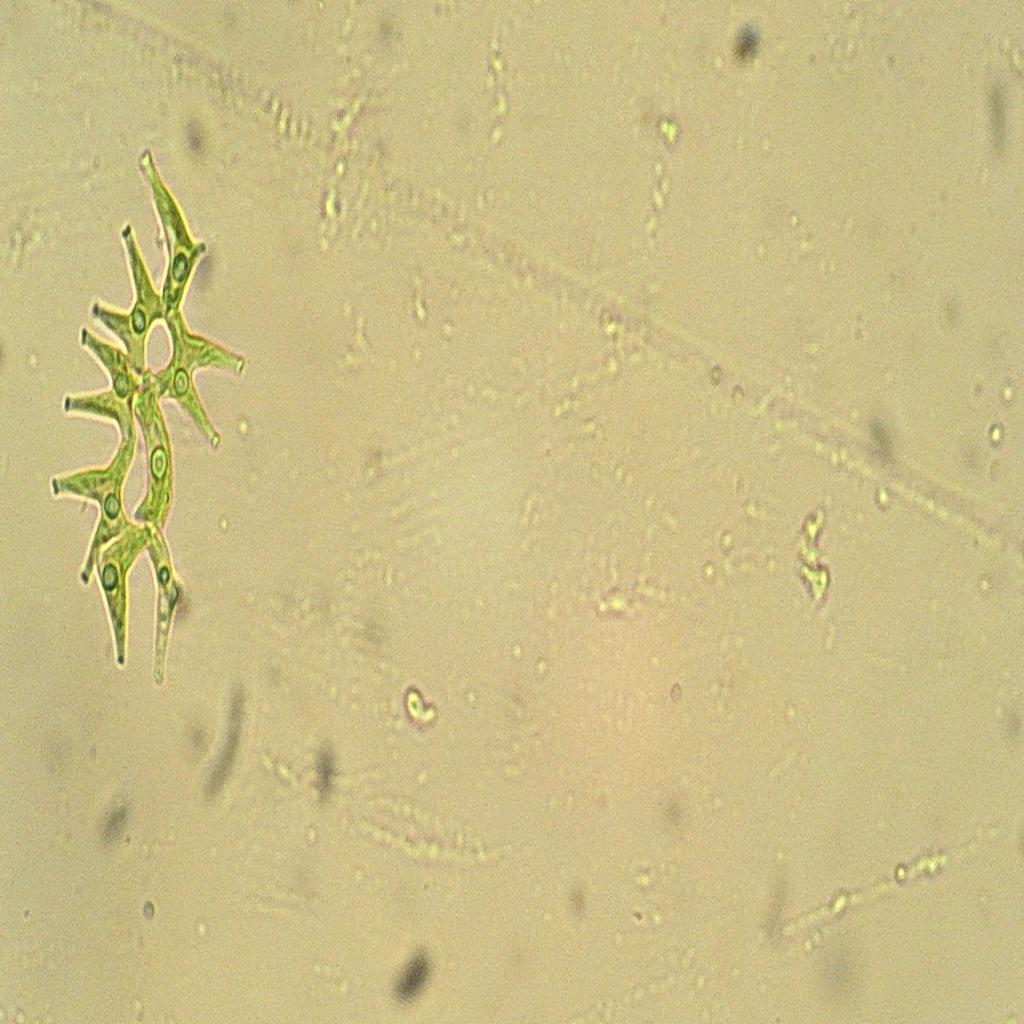Pediastrum_1TH: (44, 115, 250, 714)
